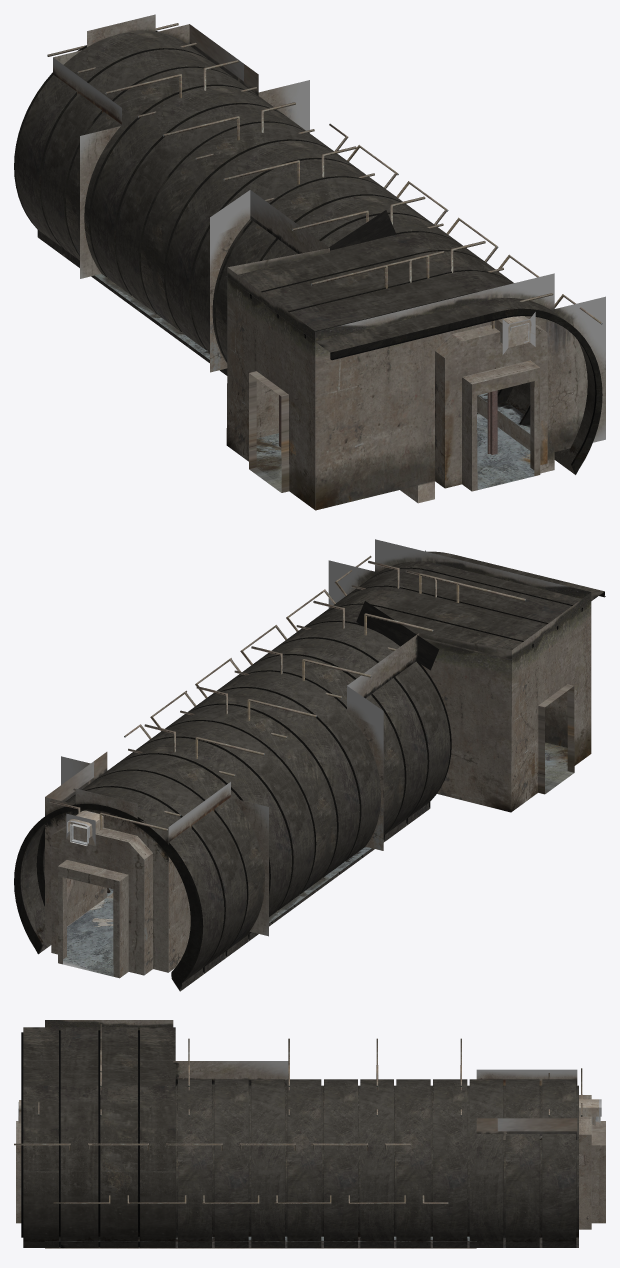
The model's file is 10_8_spojeni_dvou_levelu2.gltf.
3 renders of one model, top to bottom at view 1: azimuth 30°, elevation 25°; view 2: azimuth 150°, elevation 25°; view 3: azimuth 270°, elevation 25°, orthographic. The views are drawn at different scales.
Visible parts, largest first — view 1: wall_and_floor, round_ceil_allround, round_ceil_extend, vent_holders, round_vystupky, fix_zed, single_door_frame.001; view 2: round_ceil_allround, wall_and_floor, round_ceil_extend, vent_holders, fix_zed, round_vystupky; view 3: round_ceil_allround, round_ceil_extend, wall_and_floor, round_vystupky, vent_holders.
Part boxes in pixels (bbox=[...]): wall_and_floor: bbox=[53, 14, 605, 510]; round_ceil_allround: bbox=[14, 31, 461, 375]; round_ceil_extend: bbox=[226, 232, 602, 474]; vent_holders: bbox=[47, 23, 553, 328]; round_vystupky: bbox=[329, 123, 602, 324]; fix_zed: bbox=[327, 210, 395, 250]; single_door_frame.001: bbox=[487, 390, 497, 454]; round_ceil_allround: bbox=[14, 621, 451, 991]; wall_and_floor: bbox=[45, 539, 591, 978]; round_ceil_extend: bbox=[296, 551, 605, 660]; vent_holders: bbox=[49, 561, 525, 830]; fix_zed: bbox=[356, 601, 439, 670]; round_vystupky: bbox=[124, 555, 371, 739]; round_ceil_allround: bbox=[175, 1079, 578, 1247]; round_ceil_extend: bbox=[21, 1027, 175, 1247]; wall_and_floor: bbox=[16, 1020, 605, 1248]; round_vystupky: bbox=[14, 1143, 448, 1204]; vent_holders: bbox=[38, 1024, 582, 1116].
Bounding box in the file's own units: 8.79 × 5.98 × 20.57.
